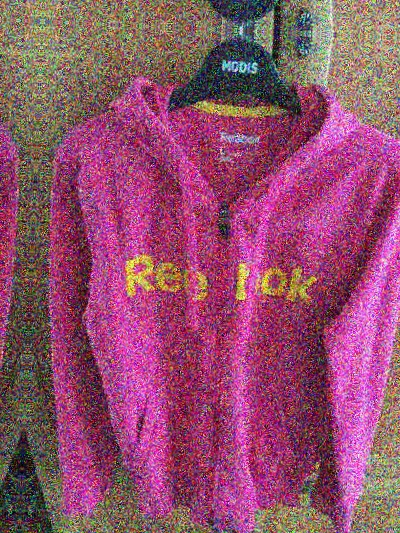Hoodie: (26, 49, 400, 533), (0, 31, 34, 530), (50, 0, 400, 11)
